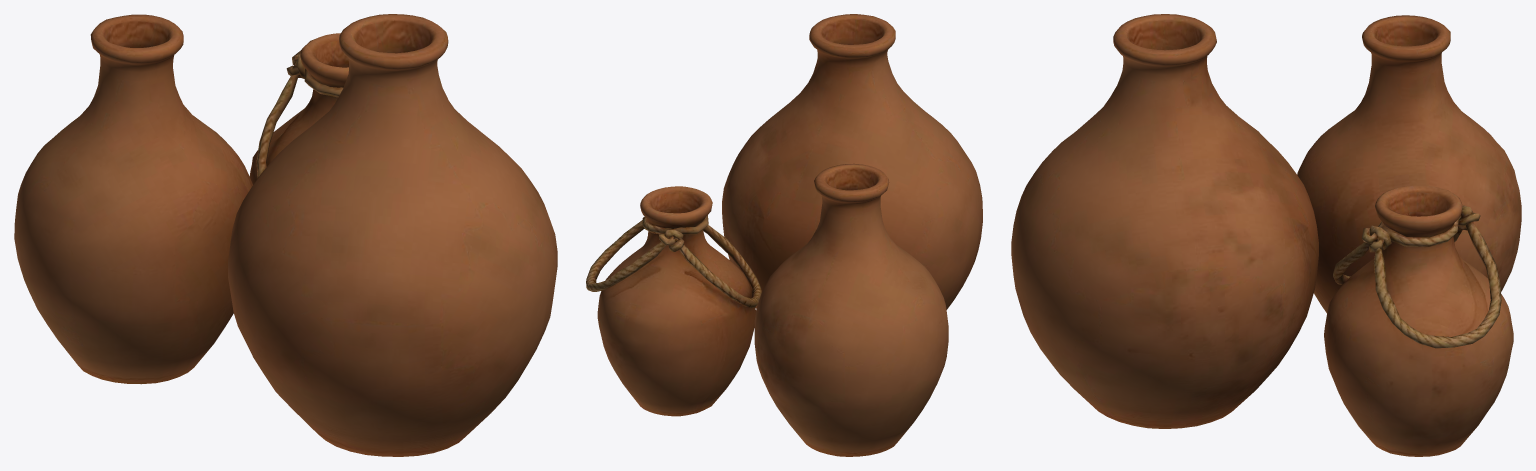
The model's file is jars.glb.
3 views of the same model, side by side, from view 1: azimuth 30°, elevation 25°; view 2: azimuth 150°, elevation 25°; view 3: azimuth 270°, elevation 25° (orthographic). The views are drawn at different scales.
Parts seen in each view (by area): view 1: ch1.jars.001; view 2: ch1.jars.001; view 3: ch1.jars.001.
Part boxes in pixels (x1=…): ch1.jars.001: x1=14, y1=14, x2=557, y2=456; ch1.jars.001: x1=586, y1=14, x2=982, y2=456; ch1.jars.001: x1=1011, y1=14, x2=1521, y2=456.
Bounding box in the file's own units: 0.8887 × 0.7871 × 0.998.
1 material, 1 textured.
